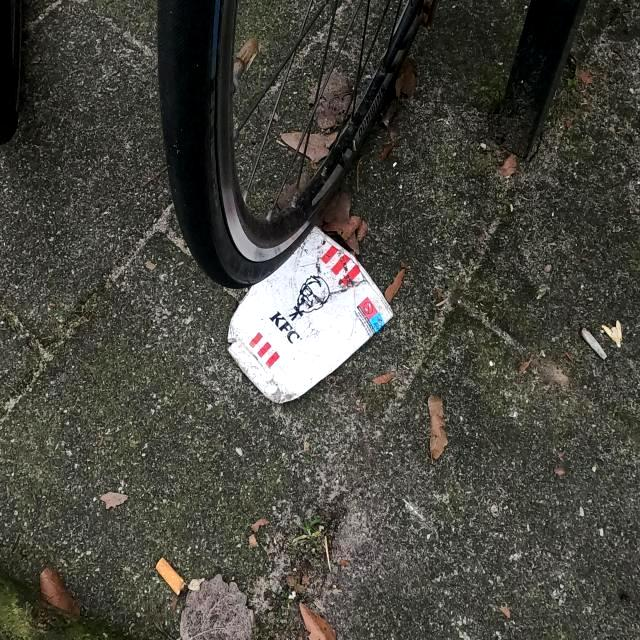Coffee Cup: (223, 224, 394, 408)
